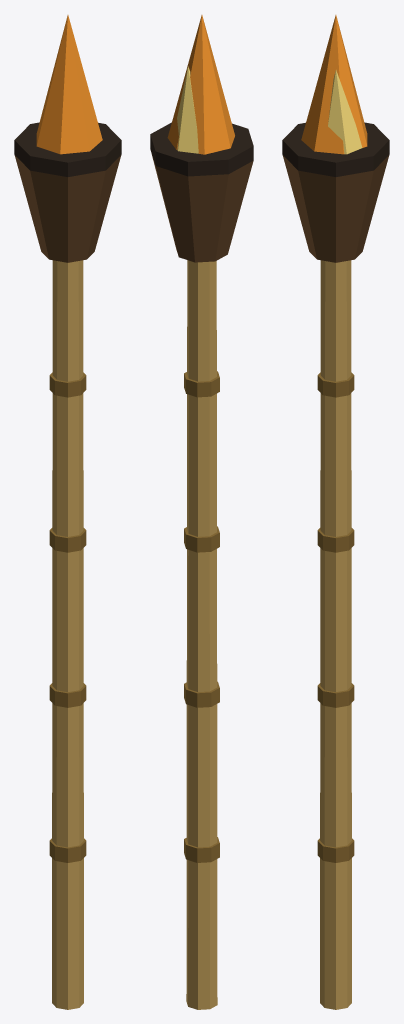
Rendered from Prop_TikiTorch.fbx.
The picture shows the model from 3 angles, left to right: view 1: azimuth 90°, elevation 25°; view 2: azimuth 210°, elevation 25°; view 3: azimuth 270°, elevation 25°; orthographic projection.
Parts seen in each view (by area): view 1: Prop_TikiTorch.001; view 2: Prop_TikiTorch.001; view 3: Prop_TikiTorch.001.
Part boxes in pixels (x1,y1,x2,y2): Prop_TikiTorch.001: (14,15,121,1009); Prop_TikiTorch.001: (150,15,253,1009); Prop_TikiTorch.001: (282,15,389,1009).
Size of the model in its own units: 0.2 by 2.04 by 0.2.
